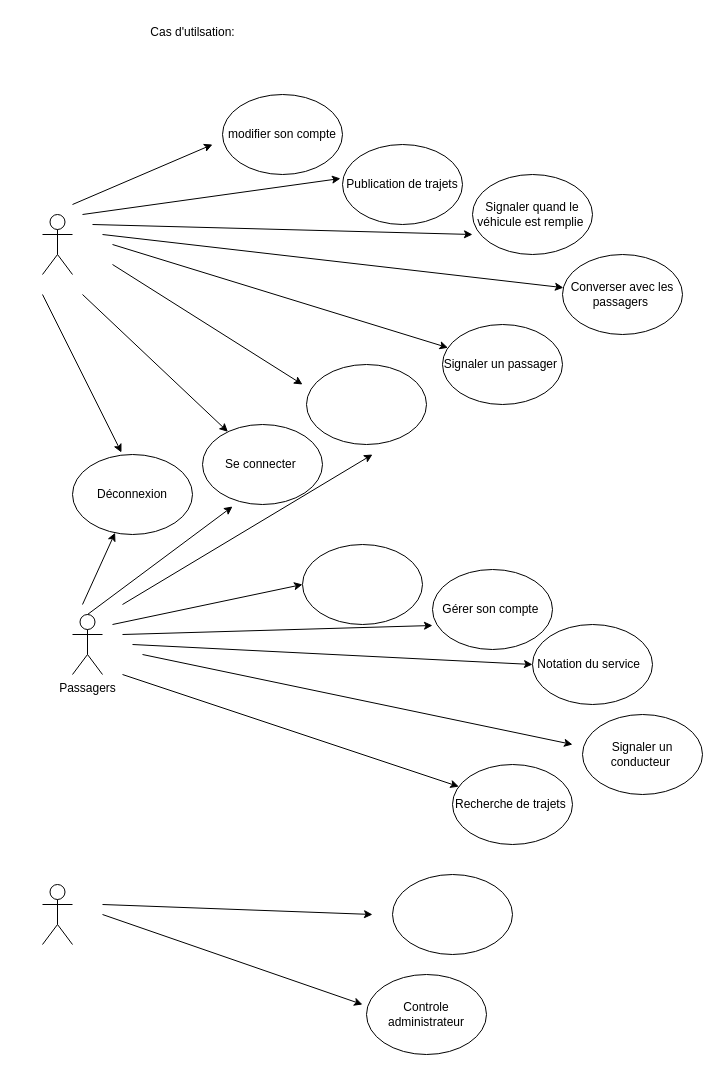
The diagram is 720 pixels wide and 1072 high, and some of its shapes have lost their labels. The centre of each missing label's shape, as x and y in pixels:
Administrateur: [57,914]
Conducteur: [57,244]
Réserver un conducteur sur un trajet: [362,584]
S'identifier (Connexion admin): [452,914]
S'inscrire: [366,404]
